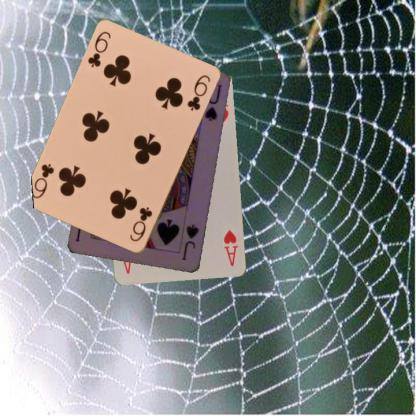6c: (85, 29, 112, 69), (127, 205, 154, 243)
Ah: (221, 228, 240, 268)
Js: (179, 222, 201, 262)
